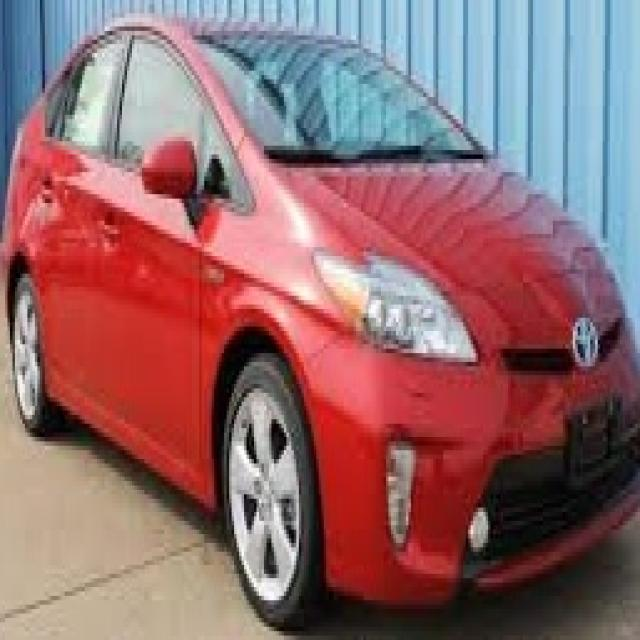red: (8, 12, 640, 609)
